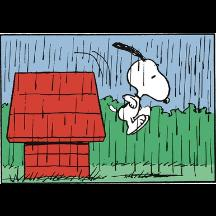snoopy: (108, 40, 172, 136)
